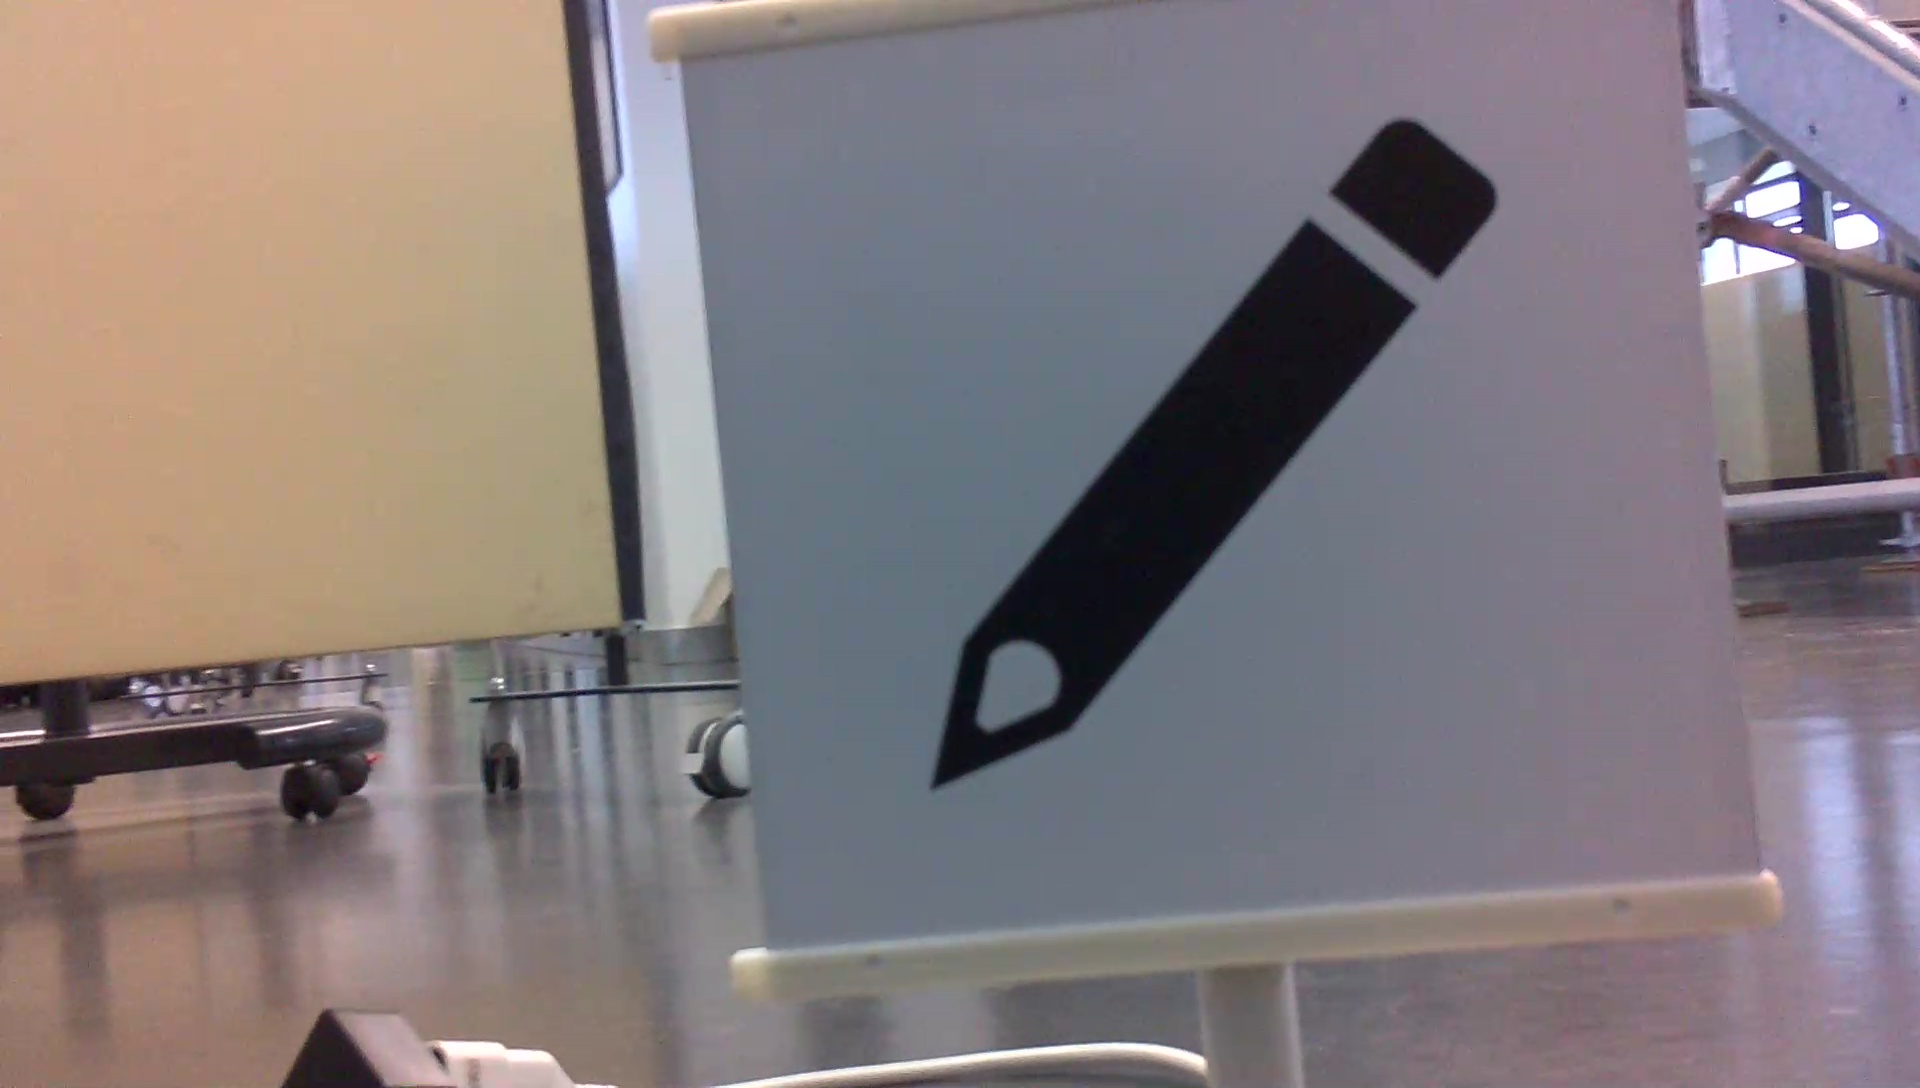pencil: (905, 106, 1518, 807)
